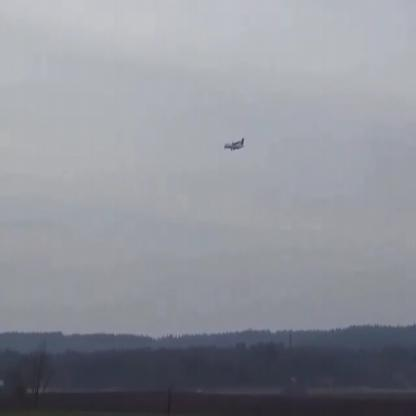CIV_Plane: (225, 139, 245, 153)
